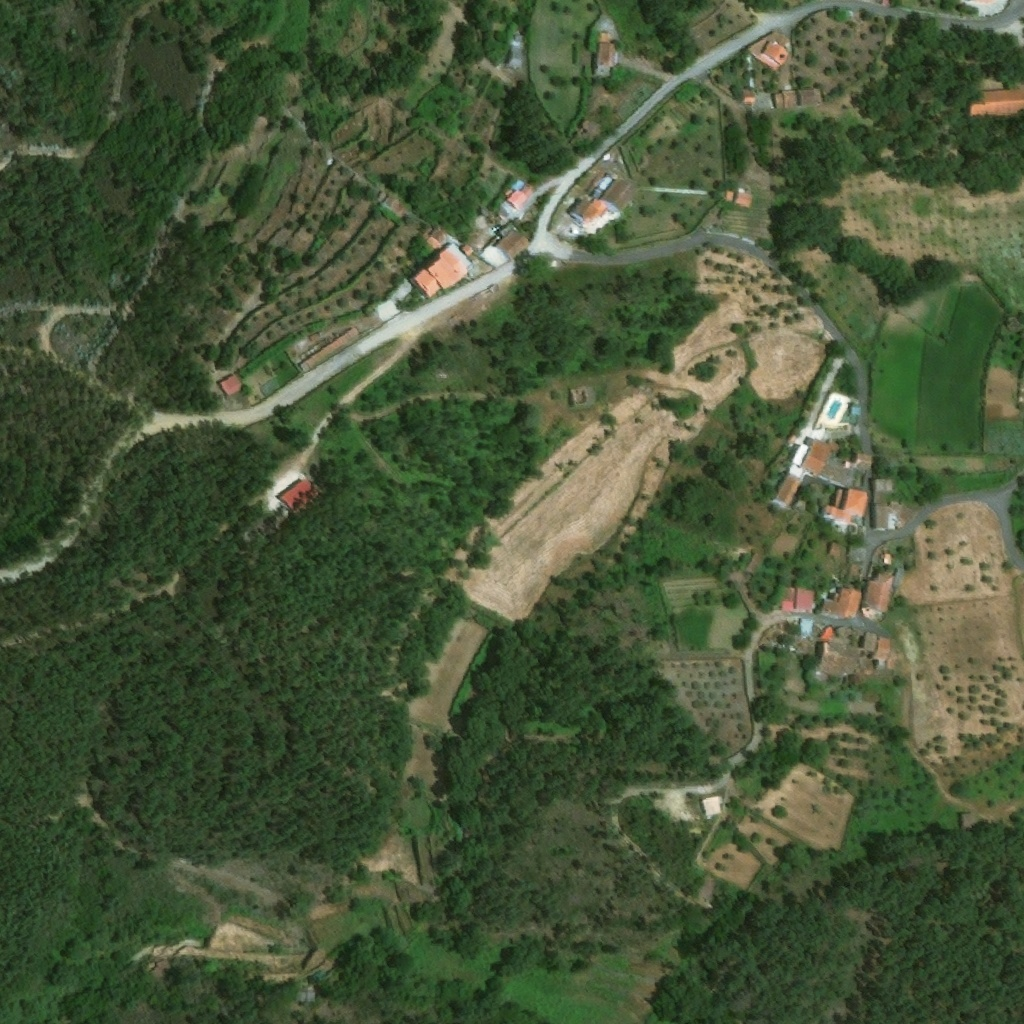0 no-damage: (567, 171, 640, 228), (298, 327, 360, 374), (820, 486, 869, 533), (822, 448, 873, 493), (429, 242, 476, 289), (747, 31, 795, 74), (792, 438, 841, 475), (970, 89, 1023, 118), (872, 476, 898, 533), (863, 571, 896, 614), (820, 587, 863, 620), (279, 479, 320, 513), (775, 465, 804, 508), (497, 227, 532, 261), (411, 267, 443, 303), (775, 86, 827, 108), (781, 585, 816, 611), (595, 41, 618, 76), (481, 243, 508, 271), (218, 373, 245, 399), (507, 184, 534, 209), (703, 794, 727, 818), (874, 635, 892, 667), (505, 42, 527, 68), (293, 988, 317, 1006), (427, 230, 447, 251), (735, 188, 753, 207), (863, 631, 879, 652), (815, 642, 833, 658), (800, 617, 816, 634), (742, 89, 759, 105), (821, 626, 835, 640), (461, 243, 475, 256), (597, 32, 612, 42), (884, 553, 893, 566), (725, 190, 734, 202)
4 un-classified: (574, 45, 593, 65), (473, 291, 491, 307), (968, 0, 1014, 5), (782, 621, 790, 630), (883, 0, 891, 7)
